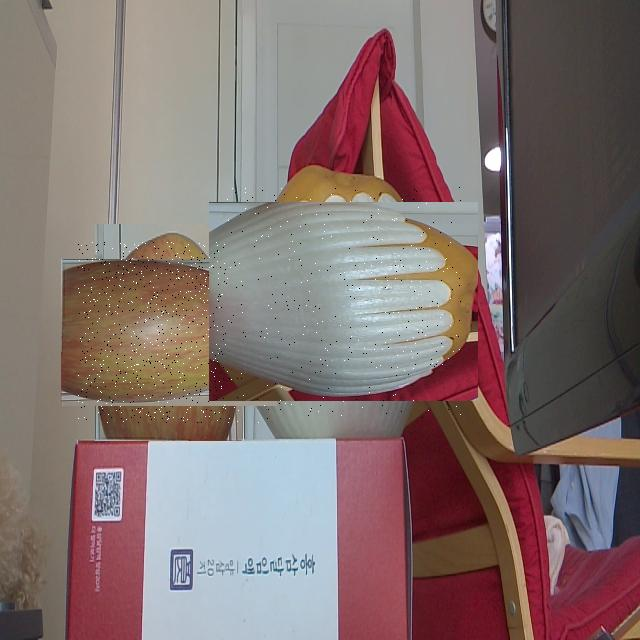apple: (78, 242, 259, 423)
pear: (226, 185, 461, 419)
